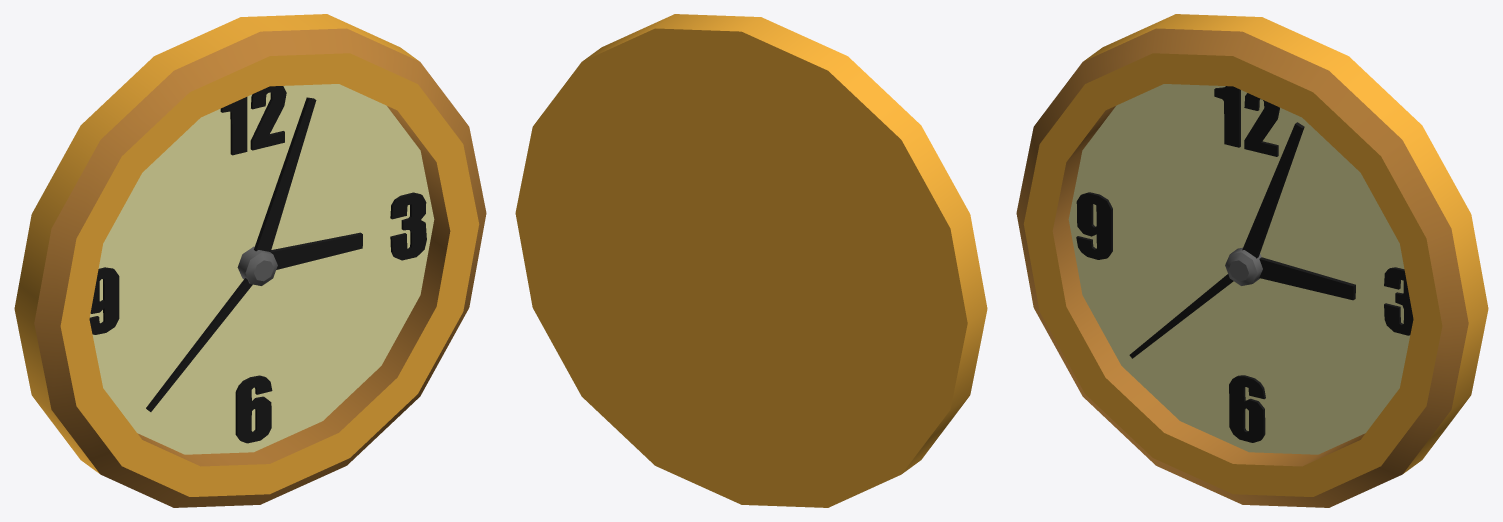
The model's file is EN_Clock_V01.fbx.
The picture shows the model from 3 angles, left to right: view 1: azimuth 30°, elevation 25°; view 2: azimuth 150°, elevation 25°; view 3: azimuth 330°, elevation 25°; orthographic projection.
Parts seen in each view (by area): view 1: GEO_Clock; view 2: GEO_Clock; view 3: GEO_Clock.
Part boxes in pixels (x1,y1,x2,y2): GEO_Clock: (14,14,486,507); GEO_Clock: (515,14,987,507); GEO_Clock: (1016,14,1488,507).
Size of the model in its own units: 28.54 by 28.54 by 3.2.
1 material, 1 textured.
